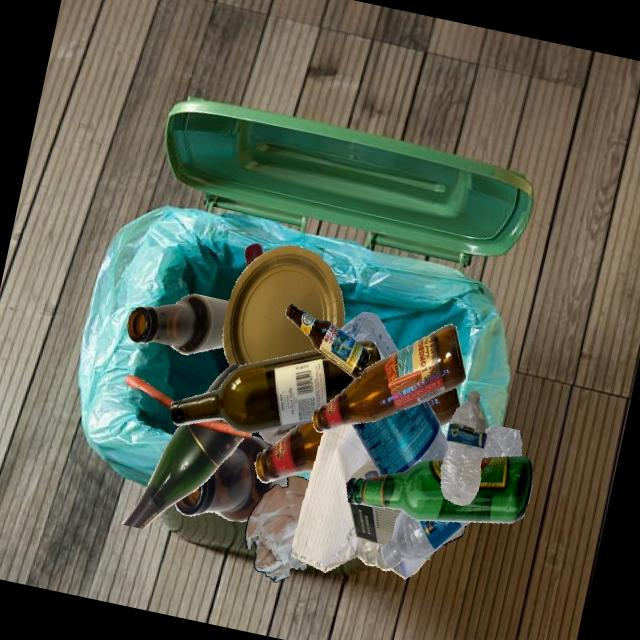biowaste: (125, 375, 174, 409), (191, 420, 251, 437)
cardboard: (386, 528, 431, 554), (360, 504, 401, 528), (350, 458, 379, 479)
glass: (311, 324, 465, 432), (170, 349, 354, 432), (120, 423, 244, 529), (346, 456, 532, 523), (174, 435, 287, 521), (126, 293, 228, 354), (285, 304, 369, 378), (254, 421, 323, 483), (426, 386, 460, 425), (441, 526, 465, 545)
paper: (291, 424, 426, 579), (222, 245, 344, 366), (244, 474, 308, 582)
plastic: (351, 400, 448, 475), (440, 390, 486, 505), (381, 510, 469, 568), (340, 311, 398, 359), (482, 424, 521, 458), (258, 424, 298, 443), (244, 243, 263, 267), (286, 547, 305, 569)
